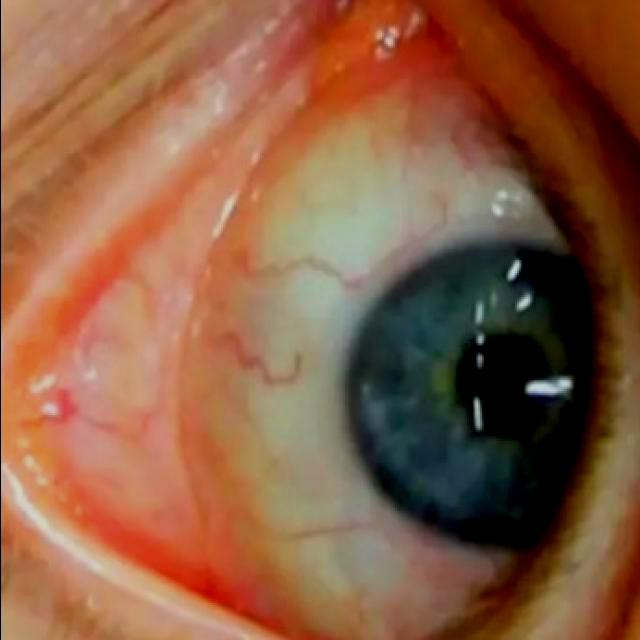conjunctiva_pallor: (0, 72, 319, 614)
